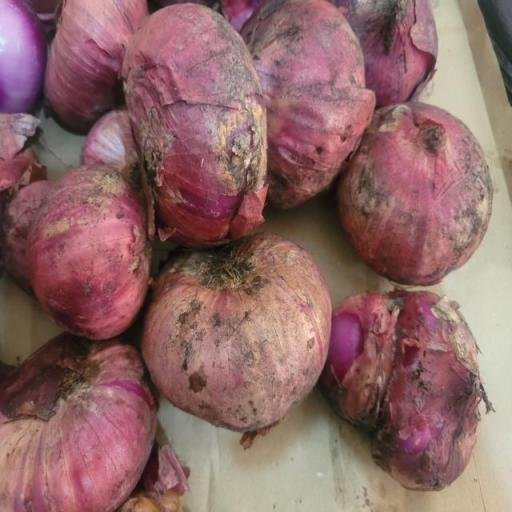damaged: (329, 283, 493, 496)
healthy: (33, 0, 151, 132)
